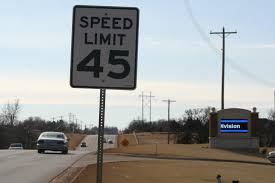speedLimit45: (71, 2, 137, 94)
